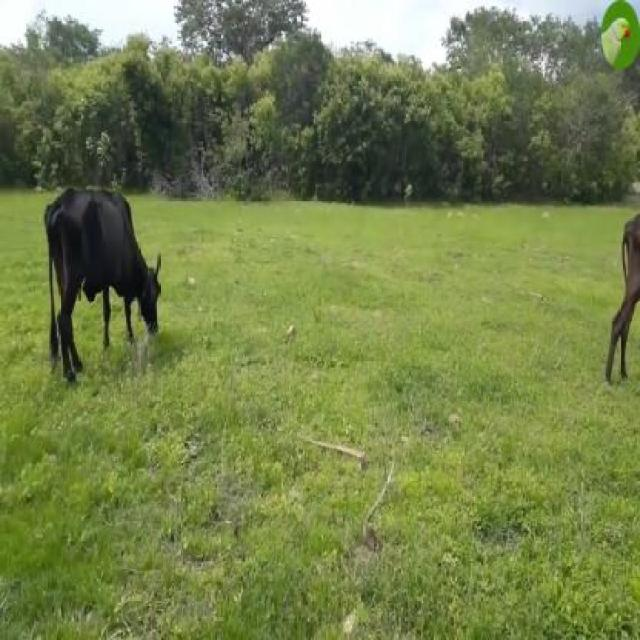Cow: (43, 190, 162, 378)
